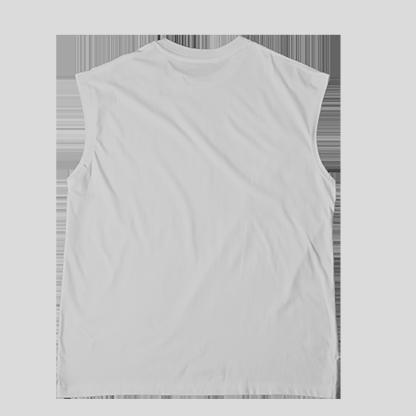jacket: (54, 31, 344, 402)
